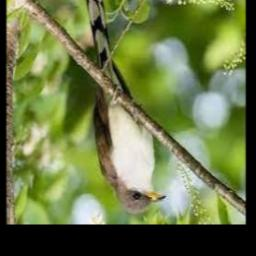Cuckoo: (84, 0, 165, 214)
